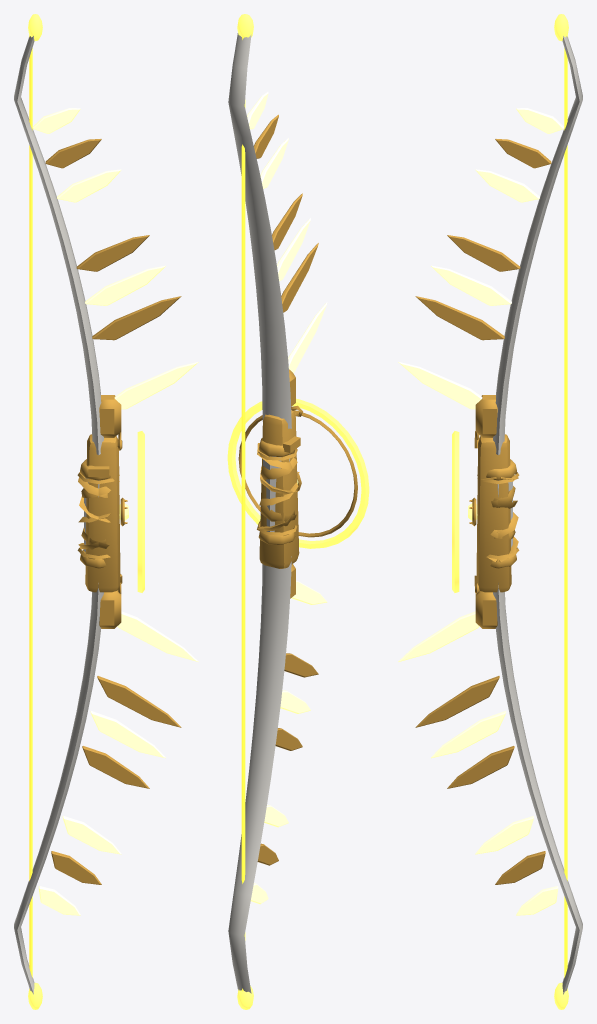
Rendered from seraph_bow.glb.
3 renders of one model, left to right at view 1: azimuth 90°, elevation 25°; view 2: azimuth 150°, elevation 25°; view 3: azimuth 270°, elevation 25°, orthographic.
Parts seen in each view (by area): view 1: seraph_bow; view 2: seraph_bow; view 3: seraph_bow.
Part boxes in pixels (x1,y1,x2,y2): seraph_bow: (14, 14, 198, 1009); seraph_bow: (227, 14, 369, 1009); seraph_bow: (398, 14, 582, 1009).
Bounding box in the file's own units: 0.2314 × 1.56 × 0.263.
